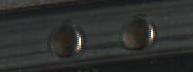joints: (44, 21, 85, 59), (118, 12, 156, 52)
